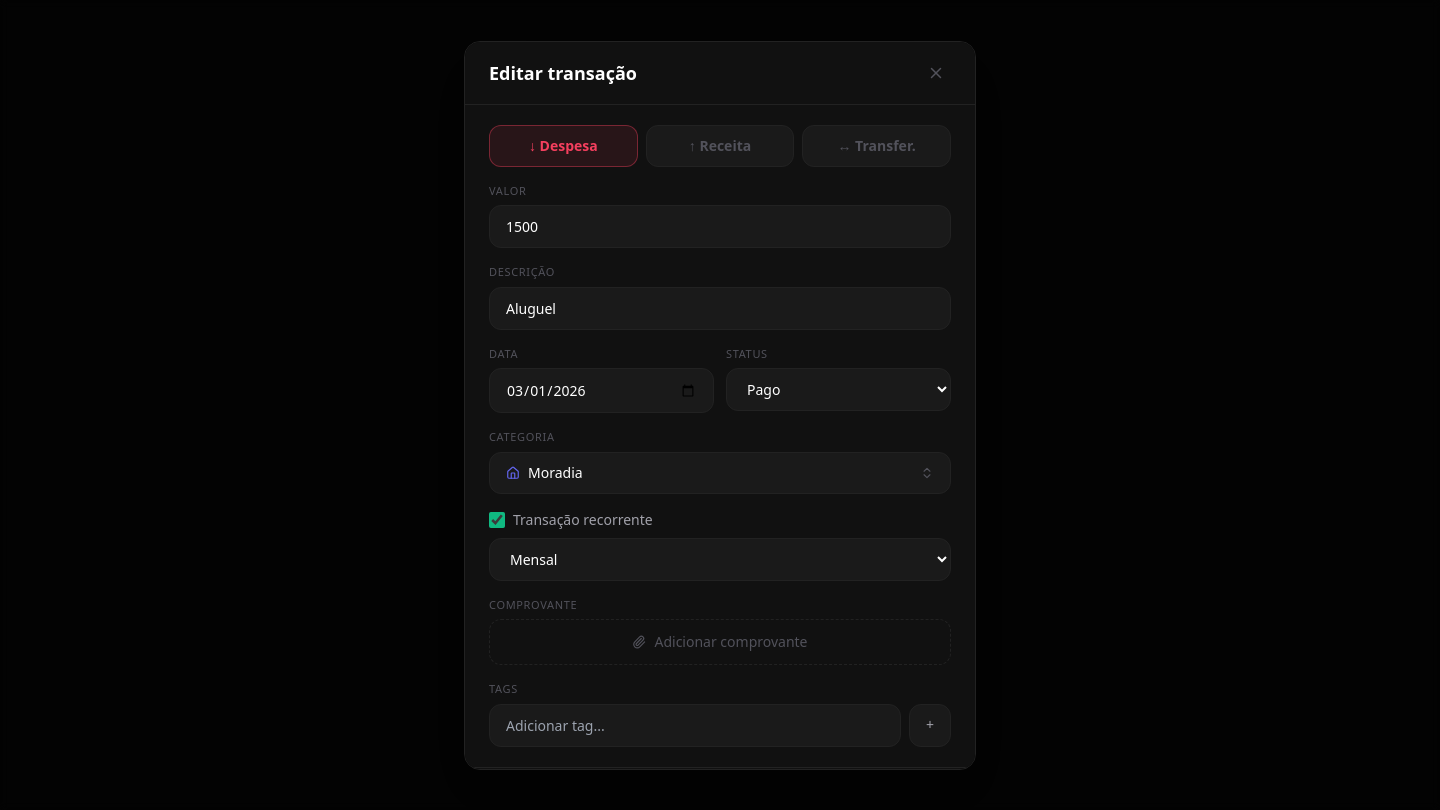
Scenario: TransactionForm › deve exibir modal de propagação ao editar Amount de transação recorrente
Replace the text in the number field showing "1500" with "2000" at (720, 226), box [489, 205, 951, 248]
(page scrolled)
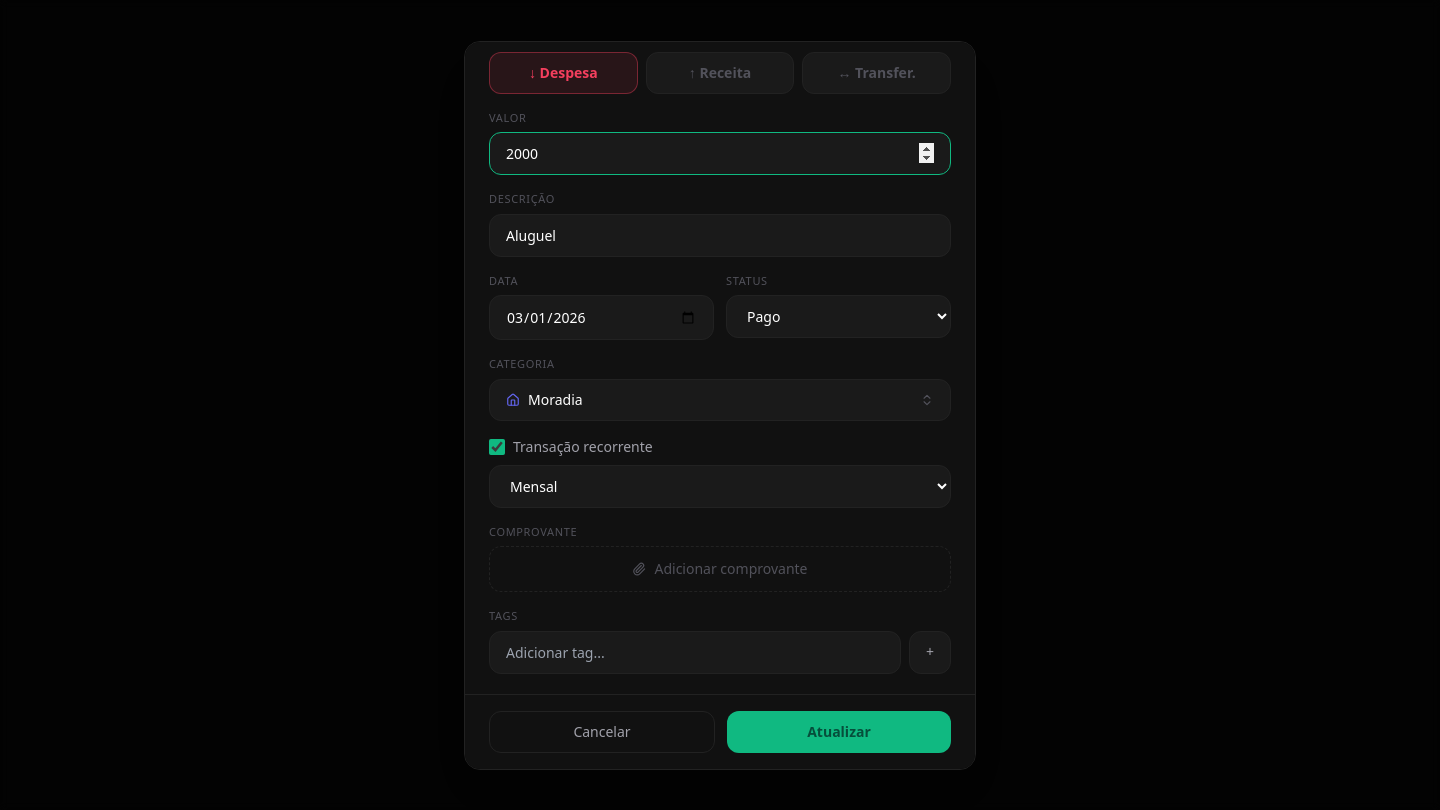
Click the button "Atualizar" at (839, 732), box [727, 710, 951, 752]
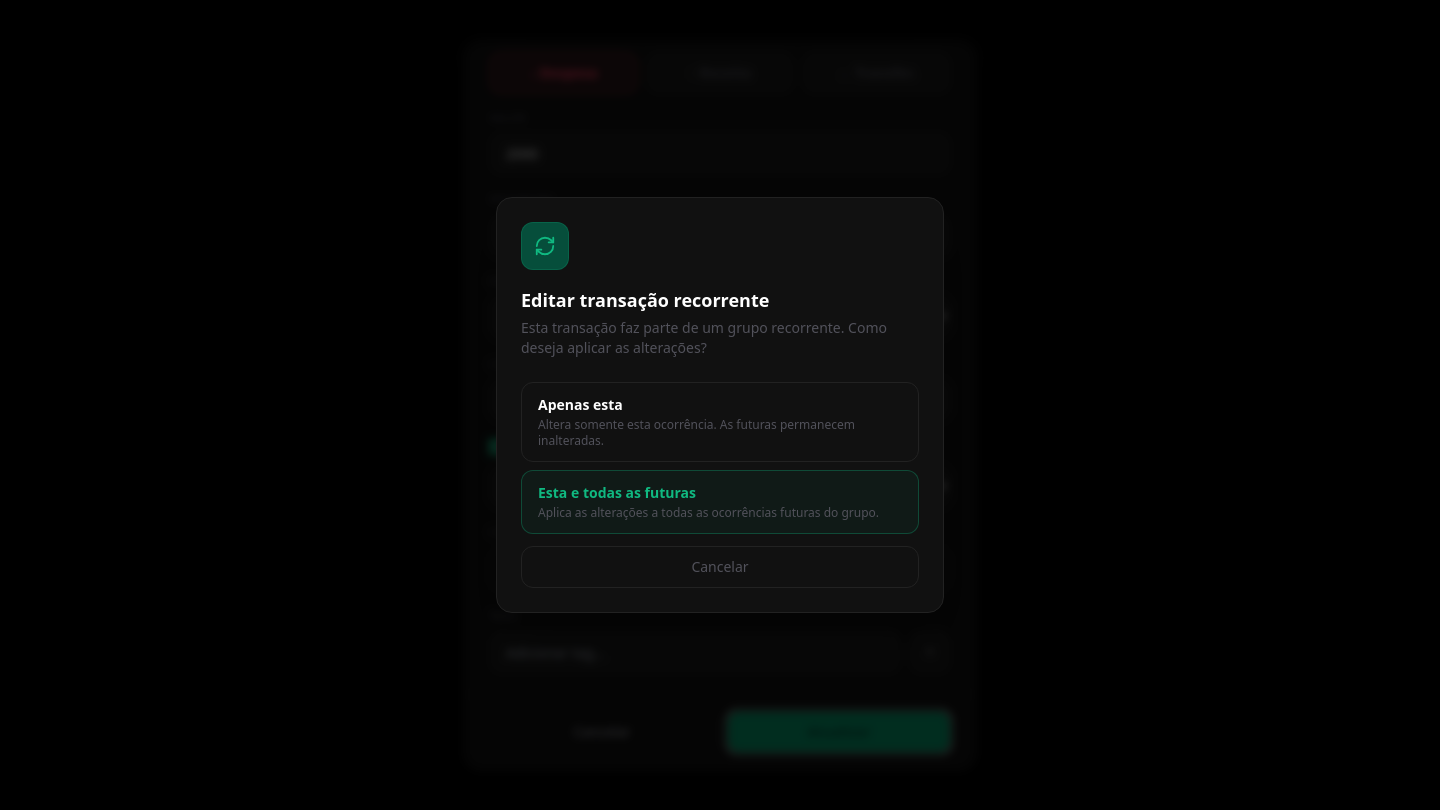
Result: the heading "Editar transação recorrente" is shown at [521, 288, 769, 312]
Result: the text "Apenas esta" is shown at [538, 395, 623, 414]
Result: the text "Esta e todas as futuras" is shown at [538, 483, 696, 502]
